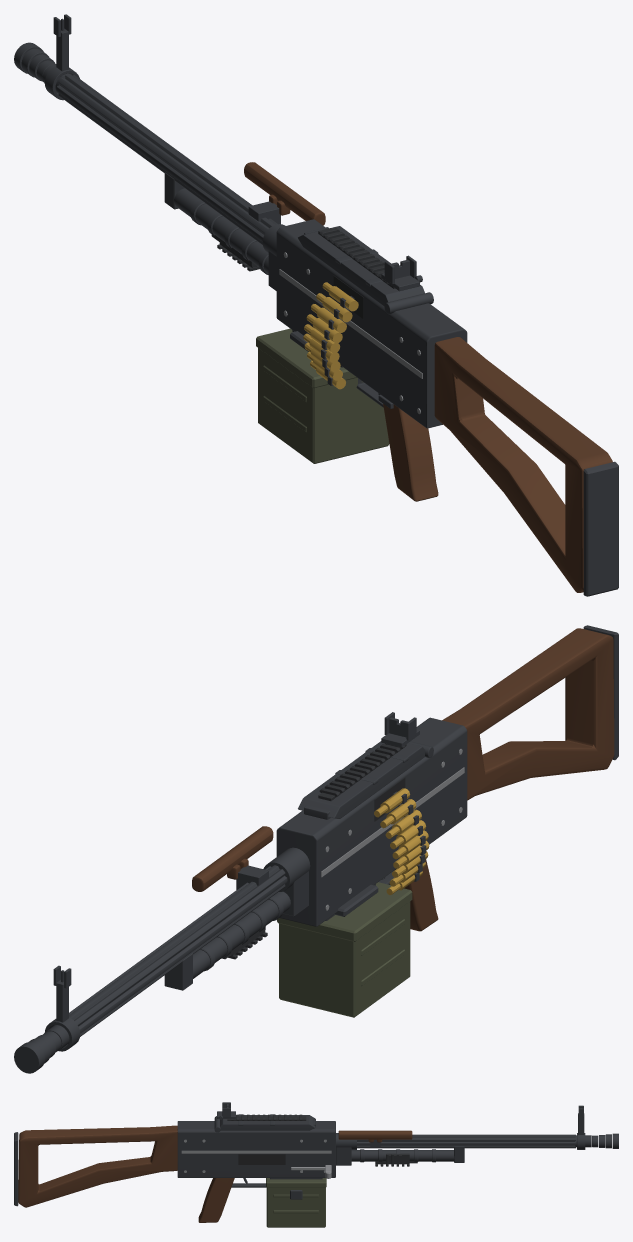
File: wpn_anvil_lmg.glb
3 views of the same model, one above another, from view 1: azimuth 30°, elevation 25°; view 2: azimuth 150°, elevation 25°; view 3: azimuth 270°, elevation 25° (orthographic). The views are drawn at different scales.
Visible parts, largest first — view 1: Stock, Receiver, AmmoBox, Barrel, ButtPlate, Grip, FeedCover, AmmoBoxBelt, GasCylinder, BarrelHandle, ReceiverDetails, TopRail (+1 smaller); view 2: Stock, Receiver, AmmoBox, Barrel, GasCylinder, FeedCover, AmmoBoxBelt, BarrelHandle, TopRail, Grip, ReceiverDetails, RearLeaf (+1 smaller); view 3: Receiver, Stock, Barrel, AmmoBox, GasCylinder, ReceiverDetails, FeedCover, Grip, BarrelHandle, TopRail, GasRail, ButtPlate (+2 smaller).
Boxes of the visible parts, x1,y1,x2,y2 form: Stock: [434, 337, 612, 592]; Receiver: [276, 219, 467, 428]; AmmoBox: [256, 328, 389, 463]; Barrel: [14, 14, 285, 256]; ButtPlate: [583, 461, 618, 596]; Grip: [383, 404, 438, 501]; FeedCover: [298, 226, 433, 314]; AmmoBoxBelt: [303, 282, 358, 389]; GasCylinder: [164, 172, 276, 290]; BarrelHandle: [244, 162, 325, 225]; ReceiverDetails: [279, 252, 422, 413]; TopRail: [318, 228, 395, 288]; Stock: [442, 628, 614, 800]; Receiver: [276, 717, 467, 926]; AmmoBox: [277, 882, 412, 1017]; Barrel: [14, 847, 310, 1073]; GasCylinder: [164, 871, 308, 990]; FeedCover: [298, 741, 433, 819]; AmmoBoxBelt: [374, 788, 429, 894]; BarrelHandle: [192, 826, 273, 891]; TopRail: [318, 743, 406, 801]; Grip: [390, 859, 438, 931]; ReceiverDetails: [321, 749, 464, 910]; RearLeaf: [381, 712, 419, 747]; Receiver: [177, 1121, 335, 1187]; Stock: [18, 1125, 177, 1207]; Barrel: [336, 1105, 618, 1149]; AmmoBox: [266, 1178, 326, 1227]; GasCylinder: [336, 1146, 464, 1165]; ReceiverDetails: [181, 1139, 331, 1172]; FeedCover: [214, 1114, 315, 1132]; Grip: [198, 1178, 234, 1222]; BarrelHandle: [338, 1130, 412, 1142]; TopRail: [227, 1114, 306, 1120]; GasRail: [375, 1153, 417, 1166]; ButtPlate: [14, 1132, 18, 1206].
Bounding box in the file's own units: 0.1178 × 0.2472 × 1.15.
